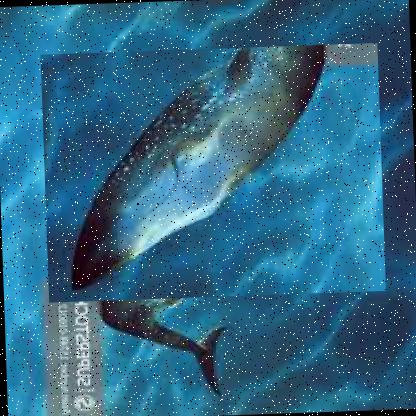blue_whale: (39, 42, 385, 303)
